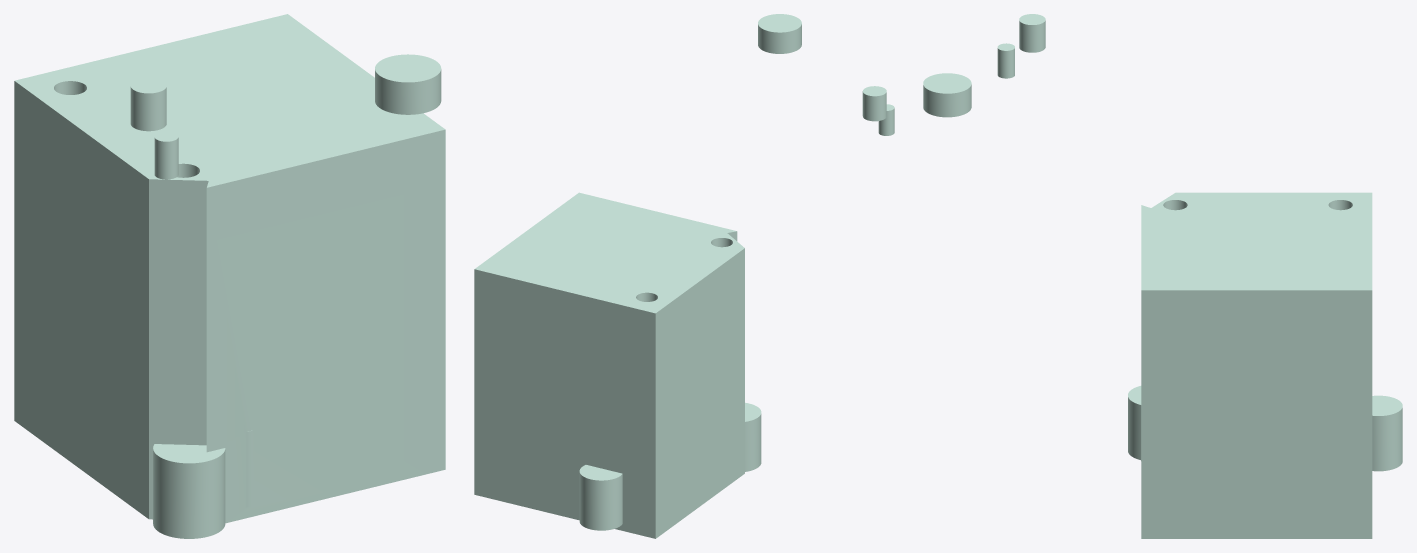
The picture shows the model from 3 angles, left to right: view 1: azimuth 30°, elevation 25°; view 2: azimuth 150°, elevation 25°; view 3: azimuth 270°, elevation 25°; orthographic projection. The views are drawn at different scales.
Parts seen in each view (by area): view 1: Renderer Node; view 2: Renderer Node; view 3: Renderer Node.
Boxes of the visible parts, <box> form: Renderer Node: <box>14,14,445,538</box>; Renderer Node: <box>474,14,894,538</box>; Renderer Node: <box>923,14,1402,538</box>.
Size of the model in its own units: 0.5862 by 0.7812 by 0.8603.
